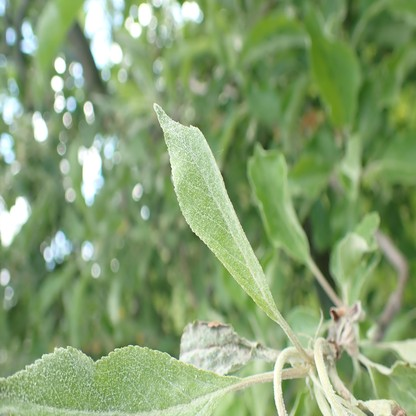powdery_mildew: (154, 104, 279, 319), (1, 345, 244, 413)
